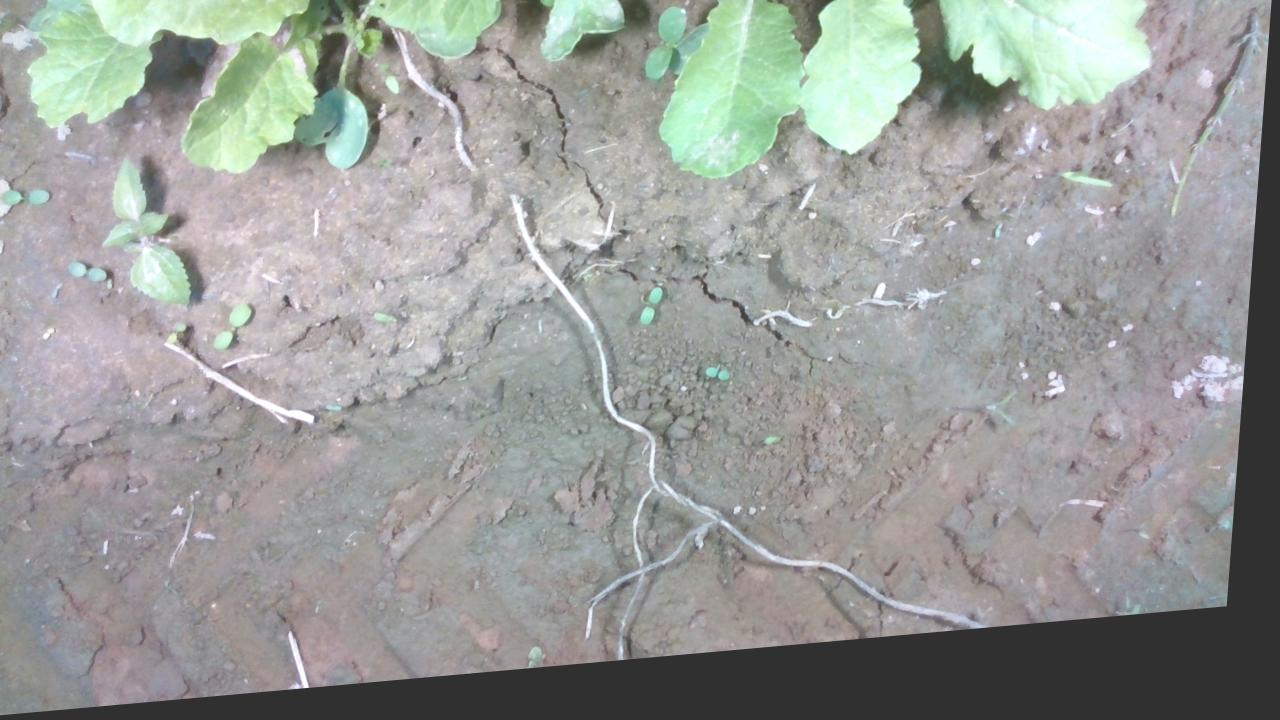weed: (0, 184, 55, 209), (643, 297, 670, 339), (53, 279, 66, 302)
